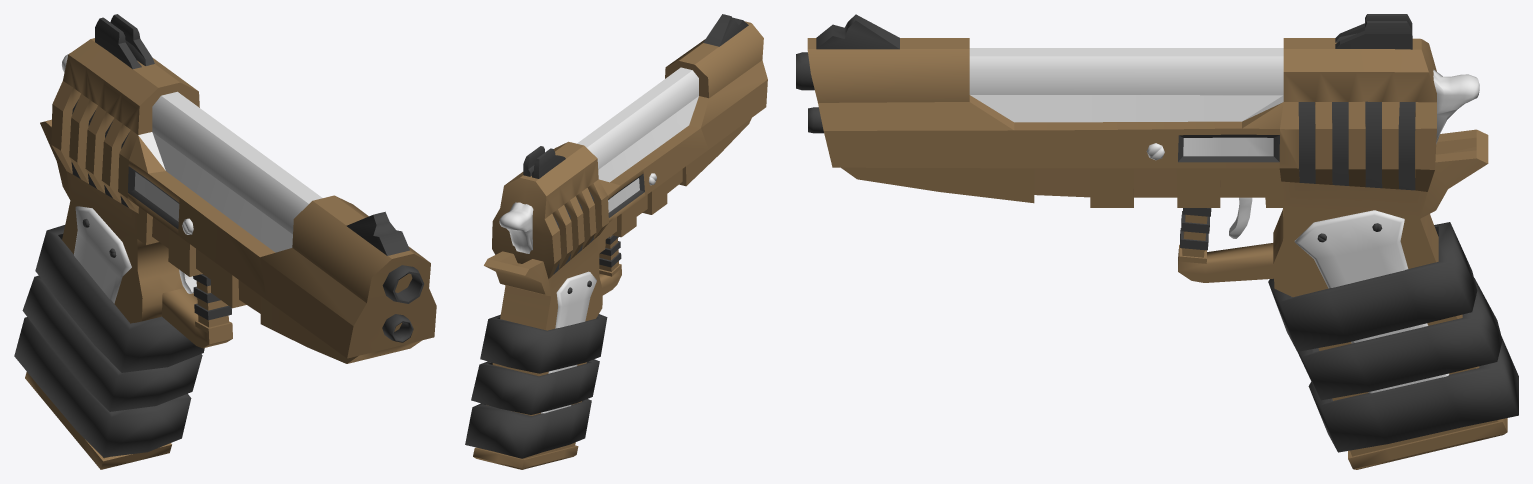
File: Pistol_8.fbx
3 views of the same model, side by side, from view 1: azimuth 30°, elevation 25°; view 2: azimuth 150°, elevation 25°; view 3: azimuth 270°, elevation 25° (orthographic). The views are drawn at different scales.
Parts seen in each view (by area): view 1: Pistol_8; view 2: Pistol_8; view 3: Pistol_8.
Part boxes in pixels (bbox=[...]): Pistol_8: bbox=[14, 14, 436, 469]; Pistol_8: bbox=[465, 14, 767, 469]; Pistol_8: bbox=[796, 14, 1518, 469].
Bounding box in the file's own units: 57.7 × 252 × 378.
